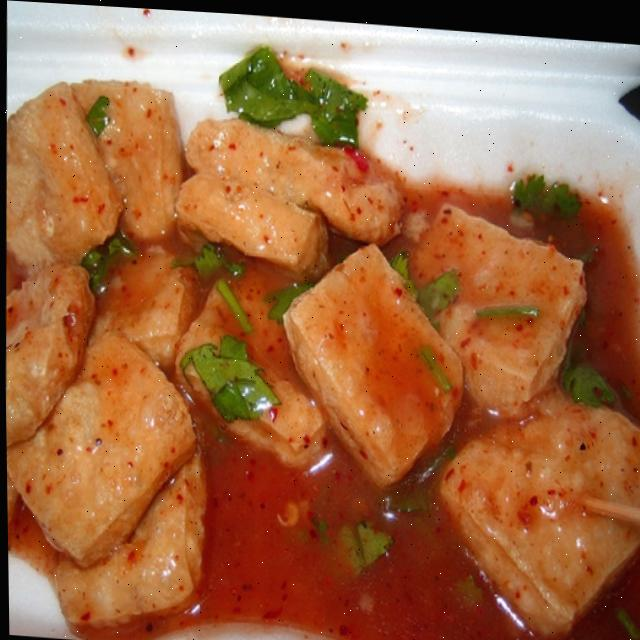豆腐料理: (1, 76, 640, 640)
